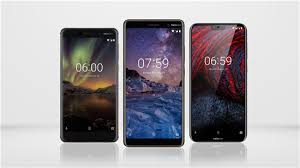nokia: (118, 15, 190, 151)
